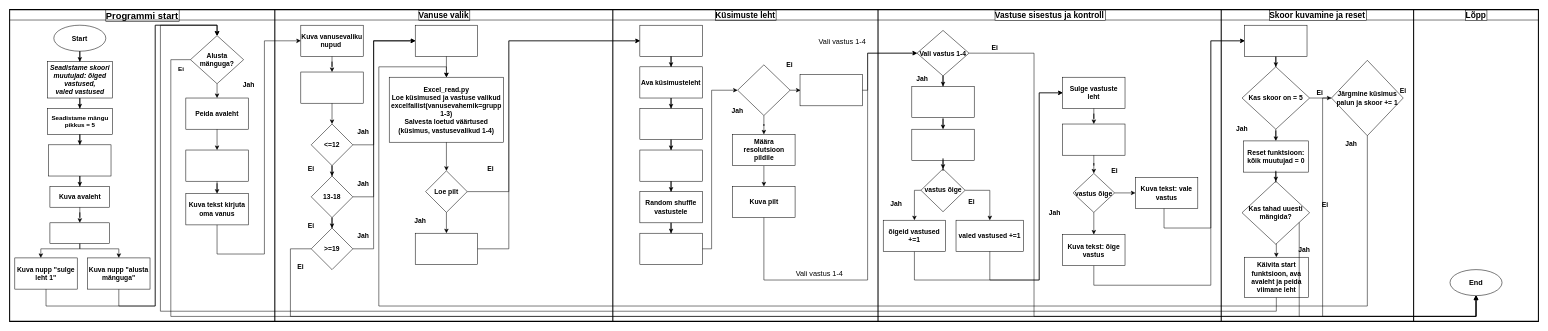
The diagram is 1548 pixels wide and 331 high, and some of its shapes have lost their labels. Each missing label, with the centre of its shape:
"ava lõpuleht" belongs at [1093,139].
"Ava vanuste leht" belongs at [216,165].
"Kas pilt on loetud = true" belongs at [763,90].
"Kuva nupp sulge leht 2" belongs at [331,87].
"Kuva skoori väärtused ja mängude arv" belongs at [1275,40].
"Kuva tervitustekst" belongs at [79,233].
"Kuva vastusevariandi nupud" belongs at [670,165].
"Kuva vastusevariandid nuppudele" belongs at [670,248].
"Käivita kontrolli vastust funktsioon" belongs at [942,144].
"Peida pilt" belongs at [831,90].
"Salvesta pilt" belongs at [446,248].
"Salvesta valitud vastus" belongs at [942,102].
"Salvesta vanusevahemik" belongs at [446,40].
"Seadista kõik lehed täisekraanile" belongs at [79,160].
"Sulge vanuseleht" belongs at [670,40].
"Too küsimus ja kuva küsimus" belongs at [670,124].
